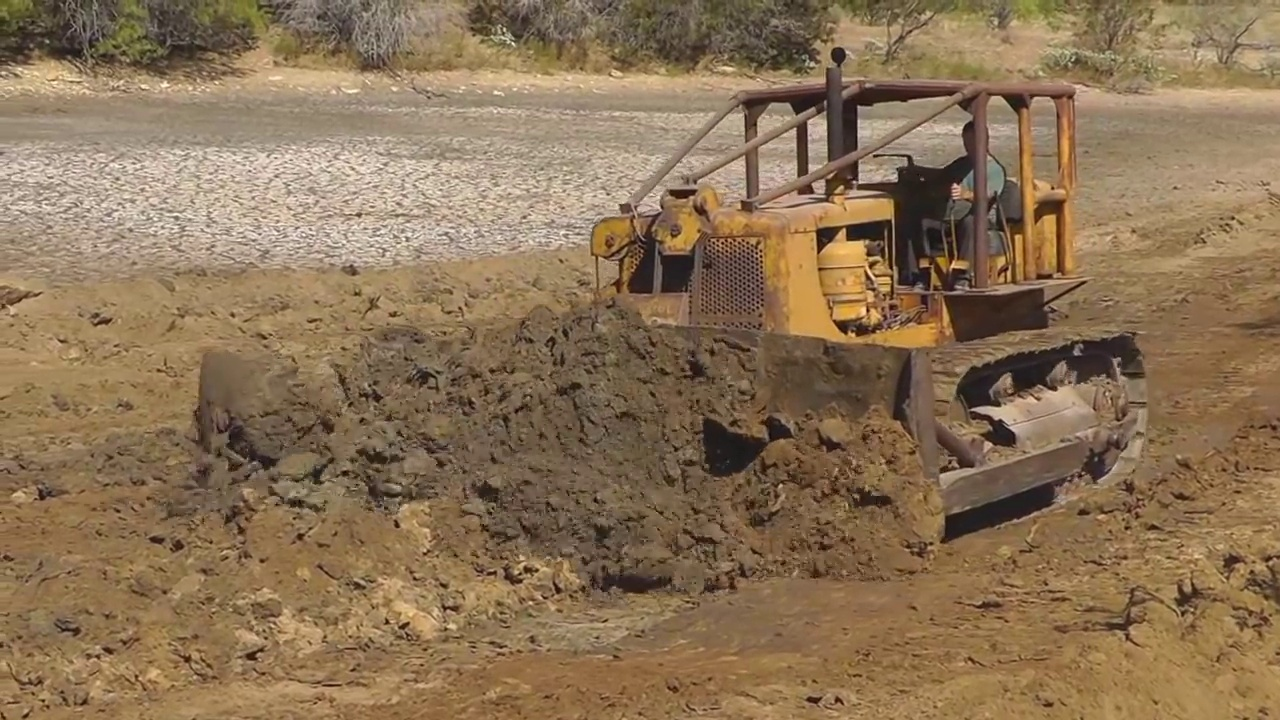bulldozer: (595, 80, 1153, 525)
person: (939, 119, 1003, 268)
